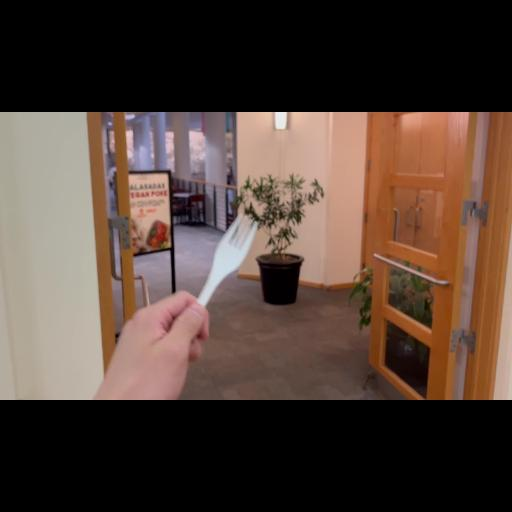utensil: (181, 207, 263, 337)
